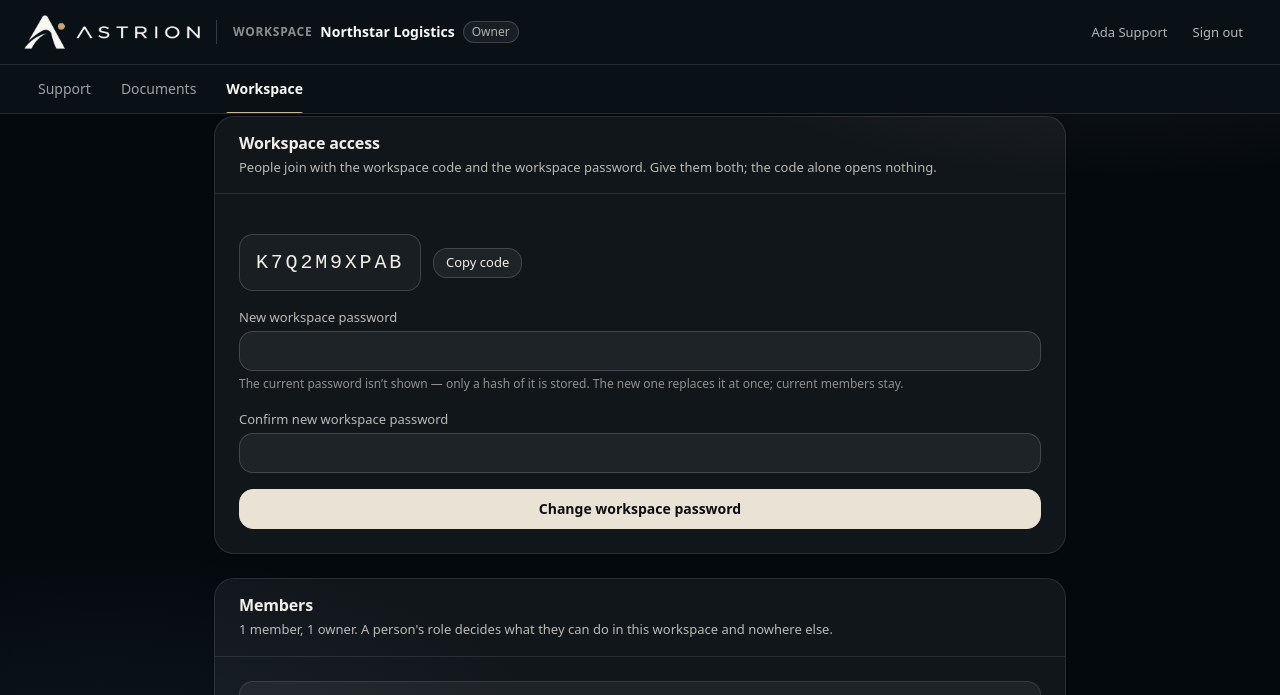
Test: the owner's workspace access › refuses a mismatched confirmation without asking the server
(page scrolled)
Type "a-fresh-passphrase" into the password field labelled "New workspace password". click: (640, 351)
box: [239,331,1041,371]
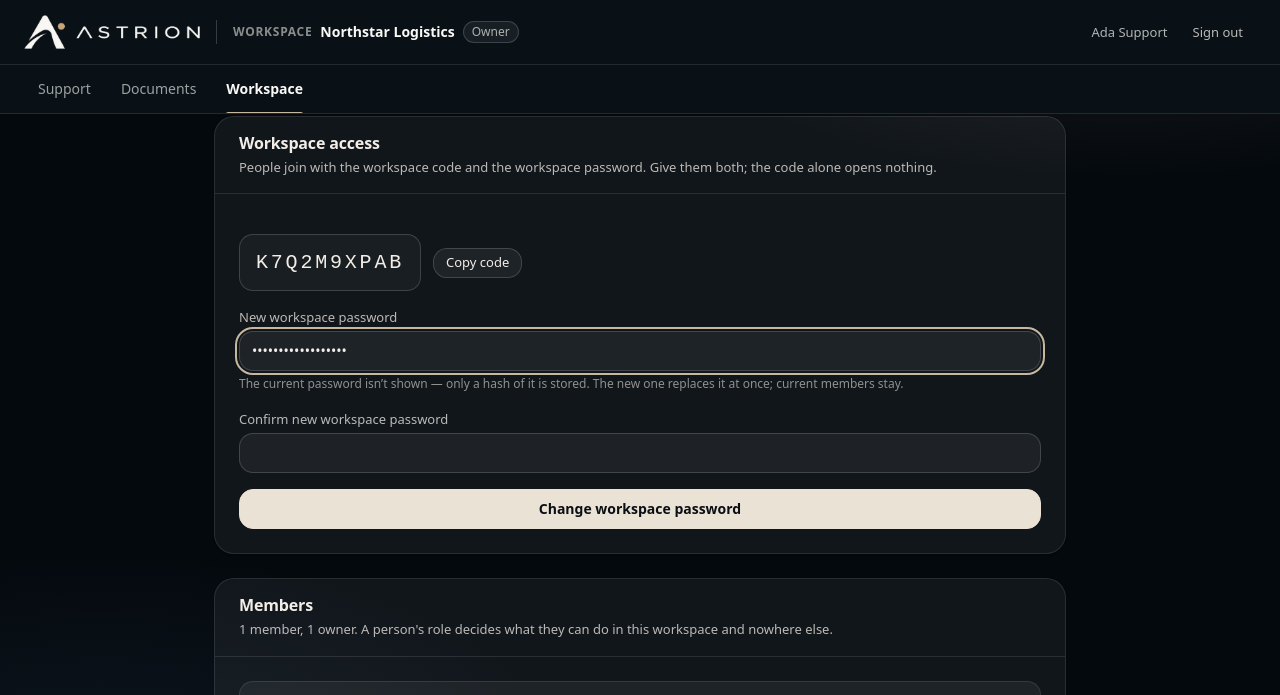
Type "a-fresh-passphrasE" into the password field labelled "Confirm new workspace password". click: (640, 453)
box: [239,433,1041,473]
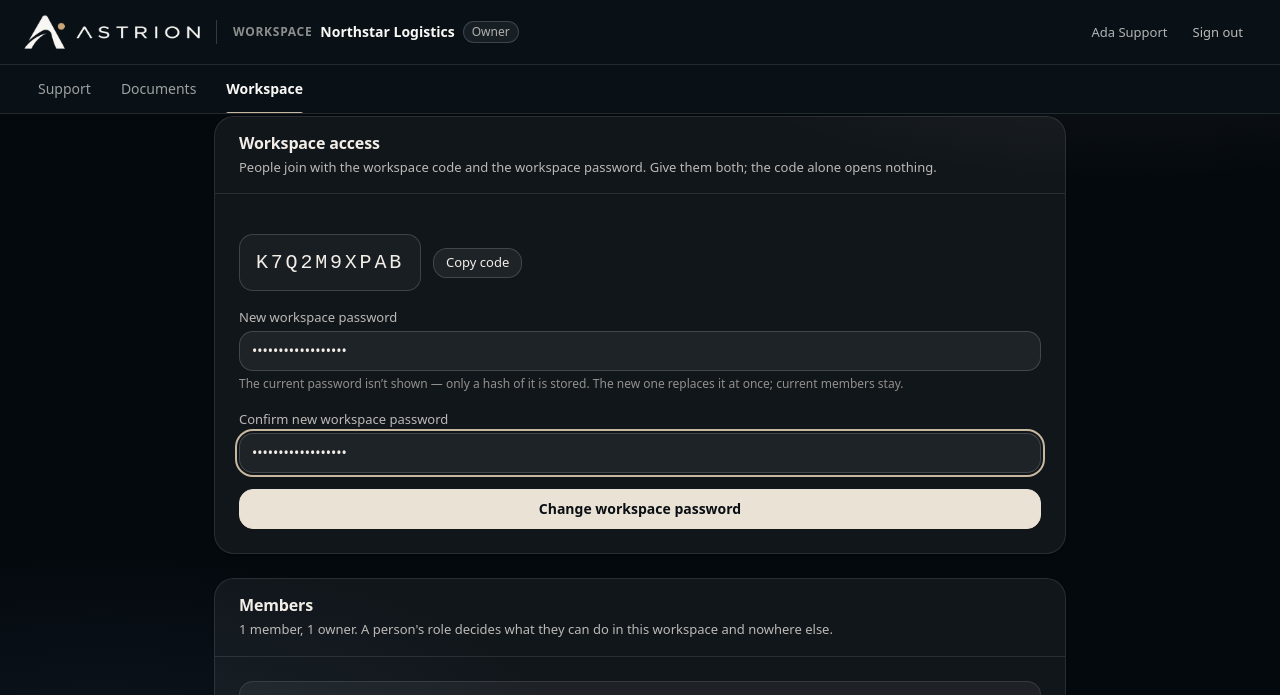
Click the button "Change workspace password". click: (640, 509)
box: [239,489,1041,529]
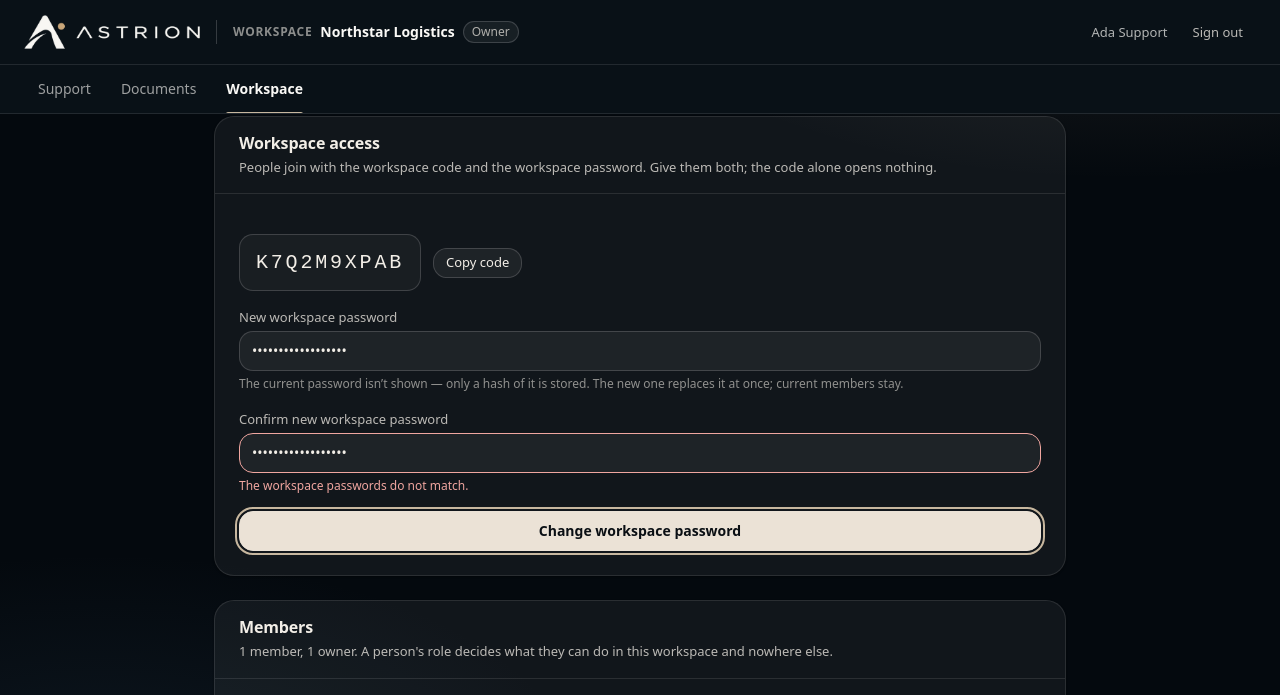
Check: the text "The workspace passwords do not match." is shown, box [239,477,468,494]
